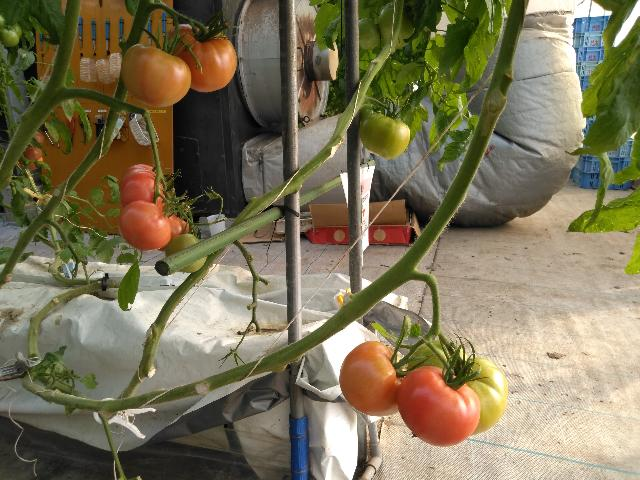b_fully_ripened: (396, 366, 481, 447), (119, 165, 167, 209)
b_green: (407, 339, 508, 436), (359, 113, 410, 160), (164, 233, 207, 273), (378, 3, 415, 49), (359, 18, 381, 50), (359, 104, 381, 124), (0, 28, 20, 47), (2, 23, 22, 38)
b_half_ripened: (339, 341, 408, 417), (165, 23, 237, 93), (121, 43, 192, 108), (118, 200, 172, 251), (157, 208, 194, 252)
